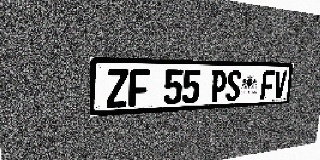5: (164, 70, 183, 105), (182, 70, 201, 104)
F: (129, 69, 150, 107), (260, 71, 275, 99)
P: (210, 70, 227, 102)
S: (225, 70, 242, 101)
V: (272, 71, 287, 99)
Z: (106, 69, 128, 108)
